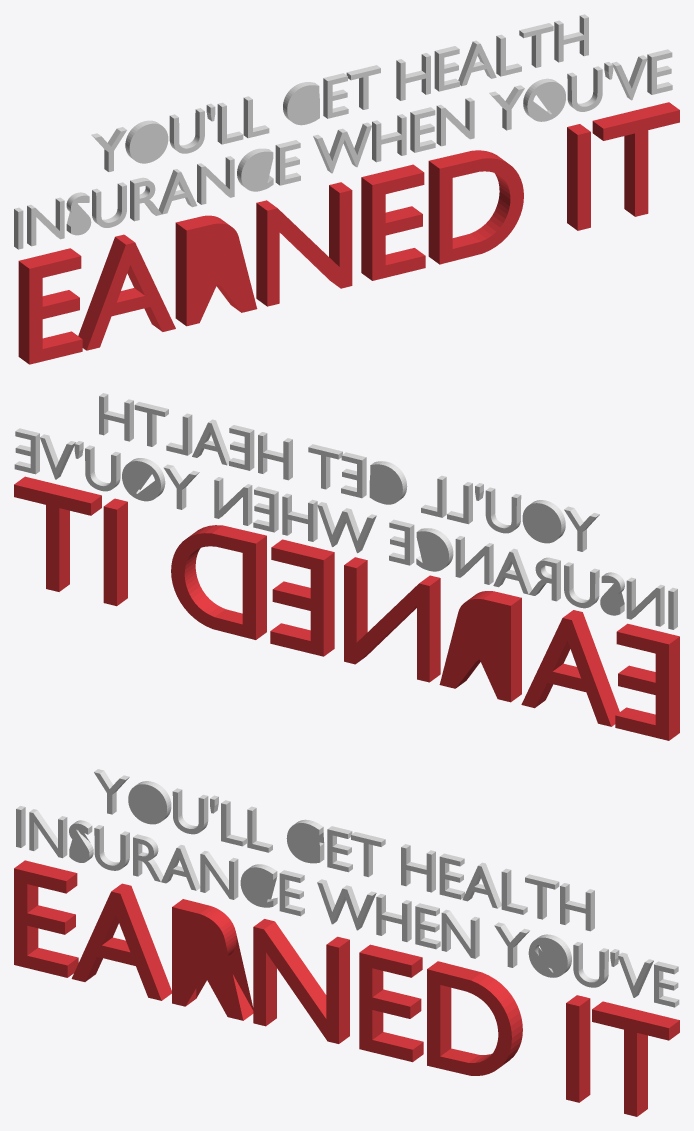
File: HealthInsurance.fbx
The picture shows the model from 3 angles, top to bottom: view 1: azimuth 30°, elevation 25°; view 2: azimuth 150°, elevation 25°; view 3: azimuth 330°, elevation 25°; orthographic projection.
Visible parts, largest first — view 1: Text.001, Text; view 2: Text.001, Text; view 3: Text.001, Text.
Part boxes in pixels (bbox=[...]): Text.001: bbox=[18, 102, 679, 364]; Text: bbox=[14, 14, 672, 249]; Text.001: bbox=[14, 476, 679, 740]; Text: bbox=[14, 393, 677, 629]; Text.001: bbox=[14, 860, 679, 1116]; Text: bbox=[16, 769, 679, 1007].
Size of the model in its own units: 1240 by 373 by 35.72.
